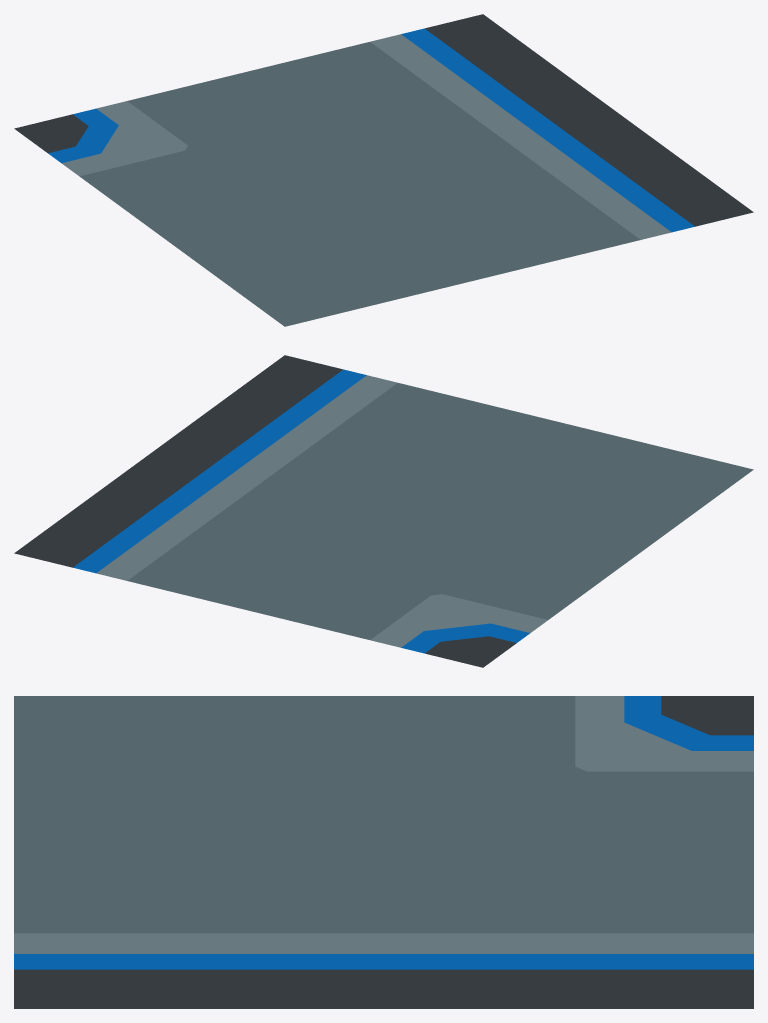
The model's file is Ceiling_type_C_052.003.fbx.
The picture shows the model from 3 angles, top to bottom: view 1: azimuth 30°, elevation 25°; view 2: azimuth 150°, elevation 25°; view 3: azimuth 270°, elevation 25°; orthographic projection. The views are drawn at different scales.
Parts seen in each view (by area): view 1: Ceiling_type_C_052.003; view 2: Ceiling_type_C_052.003; view 3: Ceiling_type_C_052.003.
Part boxes in pixels (x1,y1,x2,y2): Ceiling_type_C_052.003: (14, 14, 753, 326); Ceiling_type_C_052.003: (14, 355, 753, 667); Ceiling_type_C_052.003: (14, 696, 753, 1008).
Size of the model in its own units: 400 by 400 by 3.5.
